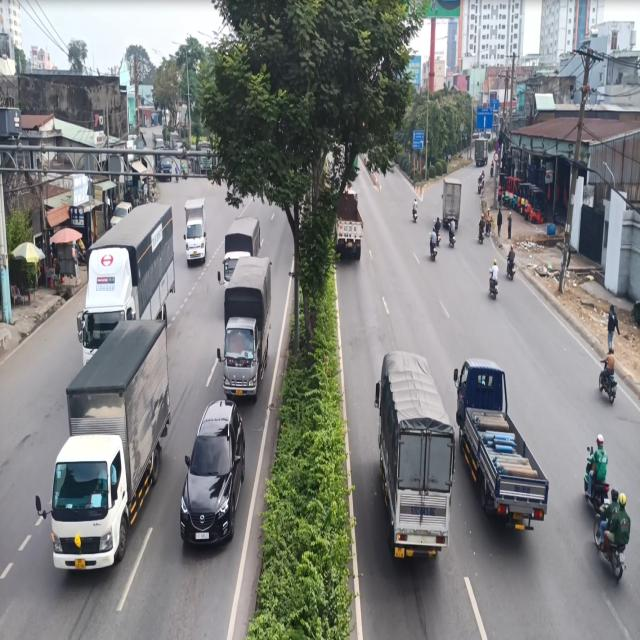car: (177, 388, 245, 570)
motor: (596, 339, 617, 402), (484, 253, 504, 308)
truck: (49, 320, 174, 594), (451, 351, 554, 548), (371, 343, 460, 570), (218, 253, 270, 406), (182, 194, 210, 268)
